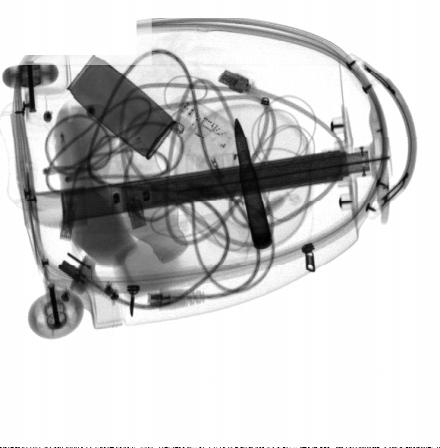Bullet: (234, 113, 273, 251)
